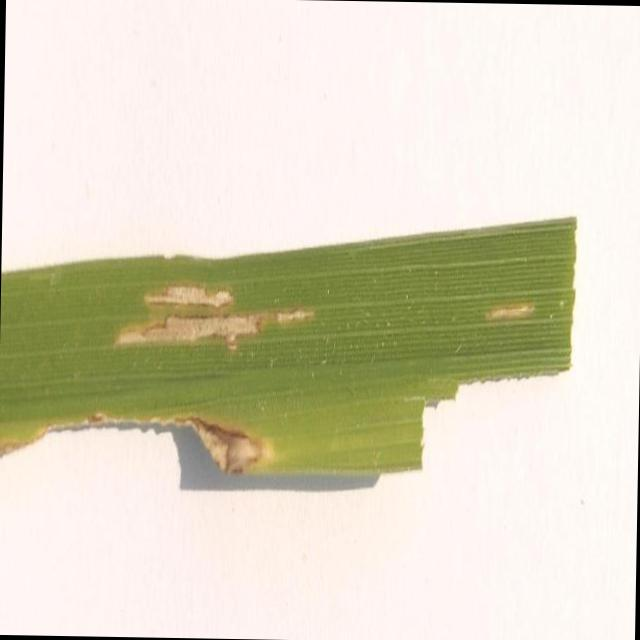Rice_Bacterial_Blight: (100, 257, 343, 369), (468, 255, 558, 358)
